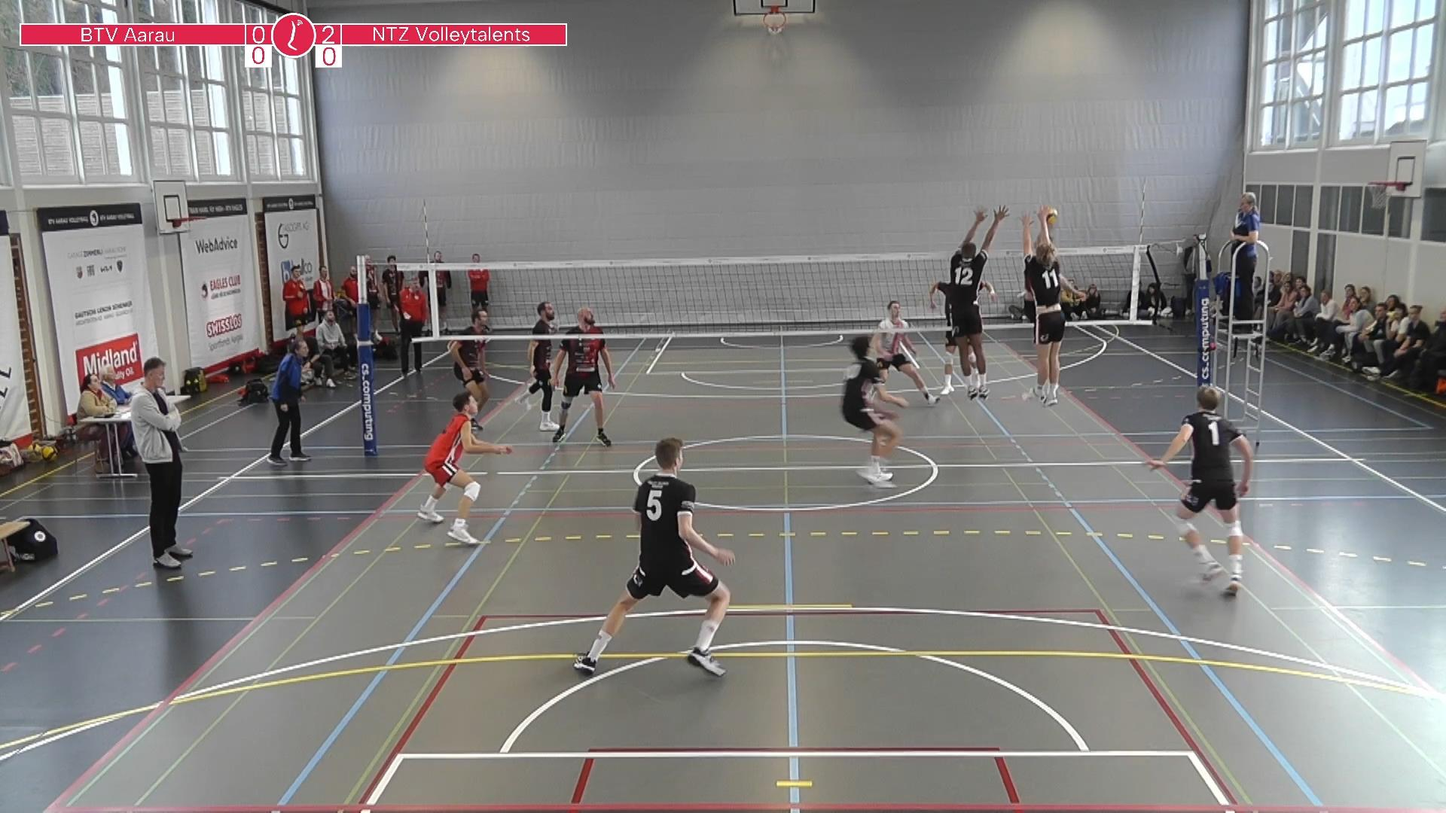muro: (938, 199, 1010, 403), (1015, 203, 1068, 408)
